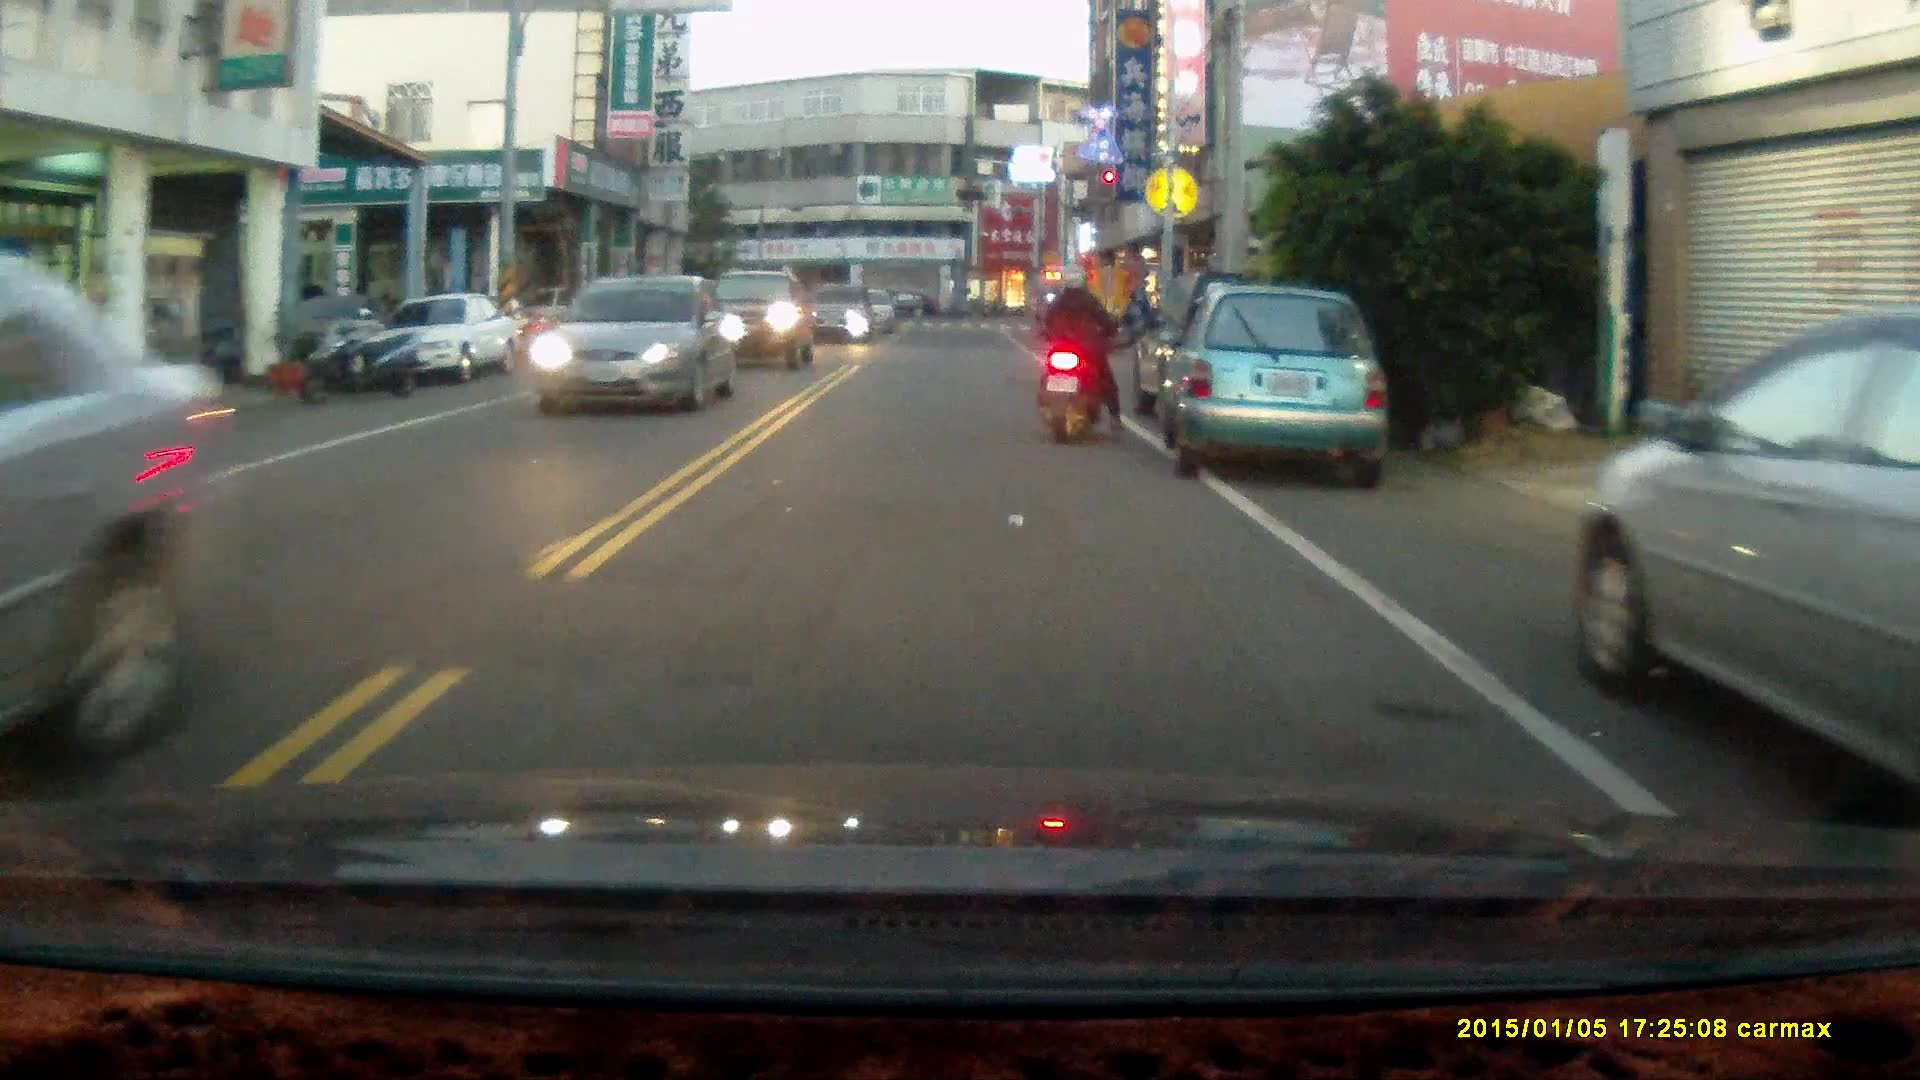rider: (1033, 265, 1126, 443)
vehicle: (1591, 345, 1920, 804), (1164, 280, 1394, 491), (534, 274, 738, 416), (371, 292, 527, 387), (693, 270, 824, 375)
